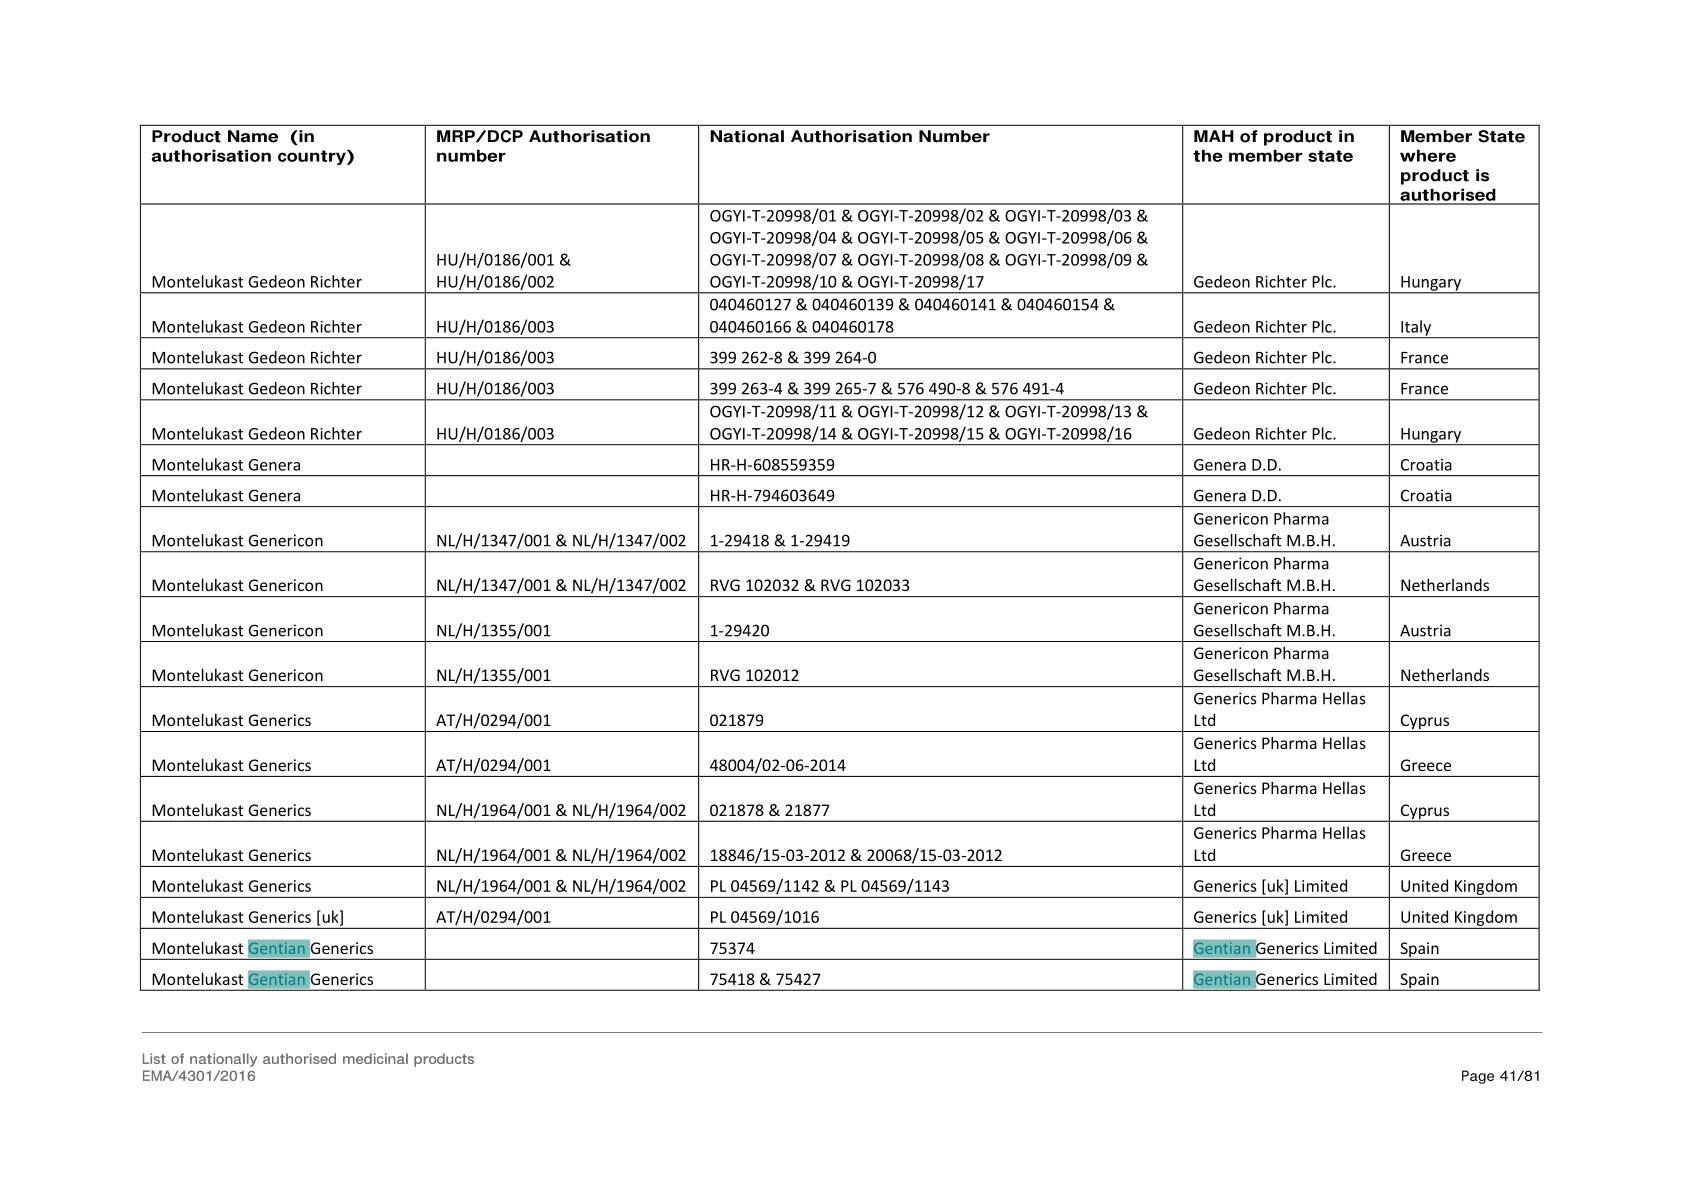full_lined: (139, 124, 1540, 991)
